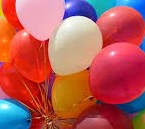Balloon: (88, 42, 145, 104), (51, 16, 101, 73), (11, 30, 51, 82), (15, 1, 65, 41), (74, 105, 132, 129), (1, 98, 32, 129)
